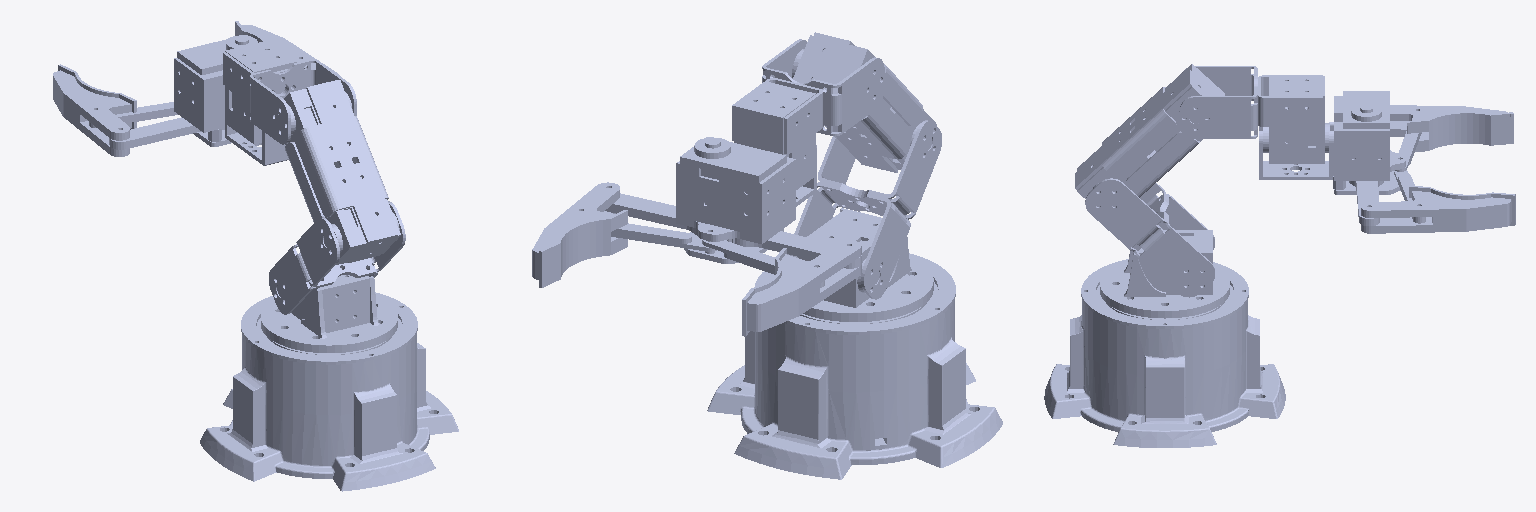
URDF robot description (endmeplz):
<?xml version="1.0" encoding="utf-8"?>
<!-- This URDF was automatically created by SolidWorks to URDF Exporter! Originally created by [author] ([email redacted]) 
     Commit Version: 1.6.0-1-g15f4949  Build Version: 1.6.7594.29634
     For more information, please see http://wiki.ros.org/sw_urdf_exporter -->
<robot
  name="endmeplz">
  <link
    name="base_link">
    <inertial>
      <origin
        xyz="0.000631713493736336 -3.02928458977558E-05 0.028430776065193"
        rpy="0 0 0" />
      <mass
        value="3.80330319179046" />
      <inertia
        ixx="0.00452100760029914"
        ixy="-3.16232627333116E-06"
        ixz="3.52203764610653E-06"
        iyy="0.0044975551721144"
        iyz="-1.73828961083293E-06"
        izz="0.00711790515099519" />
    </inertial>
    <visual>
      <origin
        xyz="0 0 0"
        rpy="0 0 0" />
      <geometry>
        <mesh
          filename="package://endmeplz/meshes/base_link.STL" />
      </geometry>
      <material
        name="">
        <color
          rgba="0.792156862745098 0.819607843137255 0.933333333333333 1" />
      </material>
    </visual>
    <collision>
      <origin
        xyz="0 0 0"
        rpy="0 0 0" />
      <geometry>
        <mesh
          filename="package://endmeplz/meshes/base_link.STL" />
      </geometry>
    </collision>
  </link>
  <link
    name="link_1">
    <inertial>
      <origin
        xyz="0.00015379 0.0029928 -0.021081"
        rpy="0 0 0" />
      <mass
        value="0.6359" />
      <inertia
        ixx="0.00018621"
        ixy="-1.0373E-06"
        ixz="1.2097E-08"
        iyy="0.00016446"
        iyz="1.9361E-07"
        izz="0.00029792" />
    </inertial>
    <visual>
      <origin
        xyz="0 0 0"
        rpy="0 0 0" />
      <geometry>
        <mesh
          filename="package://endmeplz/meshes/link_1.STL" />
      </geometry>
      <material
        name="">
        <color
          rgba="0.79216 0.81961 0.93333 1" />
      </material>
    </visual>
    <collision>
      <origin
        xyz="0 0 0"
        rpy="0 0 0" />
      <geometry>
        <mesh
          filename="package://endmeplz/meshes/link_1.STL" />
      </geometry>
    </collision>
  </link>
  <joint
    name="joint_1"
    type="revolute">
    <origin
      xyz="0 0 0.1049"
      rpy="0 0 0" />
    <parent
      link="base_link" />
    <child
      link="link_1" />
    <axis
      xyz="0 0 1" />
    <limit
      lower="-3.1"
      upper="3.1"
      effort="0"
      velocity="0" />
  </joint>
  <link
    name="link_2">
    <inertial>
      <origin
        xyz="1.0481E-07 -5.7272E-10 0.03803"
        rpy="0 0 0" />
      <mass
        value="0.10413" />
      <inertia
        ixx="2.9727E-05"
        ixy="-3.8595E-13"
        ixz="-6.8475E-12"
        iyy="6.3482E-05"
        iyz="6.1154E-12"
        izz="4.7388E-05" />
    </inertial>
    <visual>
      <origin
        xyz="0 0 0"
        rpy="0 0 0" />
      <geometry>
        <mesh
          filename="package://endmeplz/meshes/link_2.STL" />
      </geometry>
      <material
        name="">
        <color
          rgba="0.79216 0.81961 0.93333 1" />
      </material>
    </visual>
    <collision>
      <origin
        xyz="0 0 0"
        rpy="0 0 0" />
      <geometry>
        <mesh
          filename="package://endmeplz/meshes/link_2.STL" />
      </geometry>
    </collision>
  </link>
  <joint
    name="joint_2"
    type="revolute">
    <origin
      xyz="0 0.017906 -0.01425"
      rpy="0.78645 0 0" />
    <parent
      link="link_1" />
    <child
      link="link_2" />
    <axis
      xyz="1 0 0" />
    <limit
      lower="-2.3"
      upper="0"
      effort="0"
      velocity="0" />
  </joint>
  <link
    name="link_3">
    <inertial>
      <origin
        xyz="0.00026088 -4.1471E-11 0.03875"
        rpy="0 0 0" />
      <mass
        value="0.86322" />
      <inertia
        ixx="0.00025078"
        ixy="8.0452E-14"
        ixz="-1.1558E-11"
        iyy="0.00030268"
        iyz="-1.2921E-10"
        izz="0.00015129" />
    </inertial>
    <visual>
      <origin
        xyz="0 0 0"
        rpy="0 0 0" />
      <geometry>
        <mesh
          filename="package://endmeplz/meshes/link_3.STL" />
      </geometry>
      <material
        name="">
        <color
          rgba="0.79216 0.81961 0.93333 1" />
      </material>
    </visual>
    <collision>
      <origin
        xyz="0 0 0"
        rpy="0 0 0" />
      <geometry>
        <mesh
          filename="package://endmeplz/meshes/link_3.STL" />
      </geometry>
    </collision>
  </link>
  <joint
    name="joint_3"
    type="revolute">
    <origin
      xyz="0 0 0.07606"
      rpy="-1.5708 0 0" />
    <parent
      link="link_2" />
    <child
      link="link_3" />
    <axis
      xyz="-1 0 0" />
    <limit
      lower="-2.35"
      upper="0.7"
      effort="0"
      velocity="0" />
  </joint>
  <link
    name="link_4">
    <inertial>
      <origin
        xyz="0.00060001 0.056626 -0.010172"
        rpy="0 0 0" />
      <mass
        value="0.4503" />
      <inertia
        ixx="0.00012715"
        ixy="-6.9826E-11"
        ixz="-8.6987E-12"
        iyy="0.00012052"
        iyz="-3.7464E-07"
        izz="0.00010698" />
    </inertial>
    <visual>
      <origin
        xyz="0 0 0"
        rpy="0 0 0" />
      <geometry>
        <mesh
          filename="package://endmeplz/meshes/link_4.STL" />
      </geometry>
      <material
        name="">
        <color
          rgba="0.79216 0.81961 0.93333 1" />
      </material>
    </visual>
    <collision>
      <origin
        xyz="0 0 0"
        rpy="0 0 0" />
      <geometry>
        <mesh
          filename="package://endmeplz/meshes/link_4.STL" />
      </geometry>
    </collision>
  </link>
  <joint
    name="joint_4"
    type="revolute">
    <origin
      xyz="0 0 0.0775"
      rpy="0.78435 0 0" />
    <parent
      link="link_3" />
    <child
      link="link_4" />
    <axis
      xyz="1 0 0" />
    <limit
      lower="-0.5"
      upper="2.5"
      effort="0"
      velocity="0" />
  </joint>
  <link
    name="link_5">
    <inertial>
      <origin
        xyz="-0.00034131 0.078598 -0.009587"
        rpy="0 0 0" />
      <mass
        value="1.0138" />
      <inertia
        ixx="0.00028883"
        ixy="4.4009E-07"
        ixz="-6.3691E-07"
        iyy="0.00024565"
        iyz="5.5079E-06"
        izz="0.00040237" />
    </inertial>
    <visual>
      <origin
        xyz="0 0 0"
        rpy="0 0 0" />
      <geometry>
        <mesh
          filename="package://endmeplz/meshes/link_5.STL" />
      </geometry>
      <material
        name="">
        <color
          rgba="0.79216 0.81961 0.93333 1" />
      </material>
    </visual>
    <collision>
      <origin
        xyz="0 0 0"
        rpy="0 0 0" />
      <geometry>
        <mesh
          filename="package://endmeplz/meshes/link_5.STL" />
      </geometry>
    </collision>
  </link>
  <joint
    name="joint_5"
    type="revolute">
    <origin
      xyz="0.0016851 0.038575 -0.024092"
      rpy="0 0 0" />
    <parent
      link="link_4" />
    <child
      link="link_5" />
    <axis
      xyz="0 -1 0" />
    <limit
      lower="-1.4"
      upper="1.4"
      effort="0"
      velocity="0" />
  </joint>
</robot>

--- What the picture shows (computed from the rendered views, not written in the file) ---
3 views of the same robot in one strip: view 1: azimuth 30°, elevation 25°; view 2: azimuth 150°, elevation 25°; view 3: azimuth 270°, elevation 25° (orthographic).
Model endmeplz with 6 links and 5 joints (5 revolute), rooted at base_link, posed all joints at 0.
Visible links, largest first — view 1: base_link, link_5, link_3, link_1, link_4, link_2; view 2: base_link, link_5, link_4, link_2, link_3, link_1; view 3: base_link, link_5, link_4, link_3, link_2, link_1.
Link boxes in pixels (x1,y1,x2,y2): base_link: (200, 292, 458, 491); link_5: (53, 21, 339, 165); link_3: (276, 80, 400, 264); link_1: (261, 268, 397, 352); link_4: (223, 40, 356, 144); link_2: (269, 201, 405, 314); base_link: (707, 253, 1002, 479); link_5: (532, 137, 861, 336); link_4: (732, 39, 884, 189); link_2: (787, 120, 941, 299); link_3: (792, 32, 936, 172); link_1: (794, 208, 933, 321); base_link: (1044, 259, 1285, 447); link_5: (1259, 91, 1515, 233); link_4: (1179, 66, 1329, 163); link_3: (1075, 64, 1224, 206); link_2: (1085, 178, 1214, 297); link_1: (1100, 230, 1229, 318).
Size in the robot's own frame: 0.1542 by 0.2889 by 0.2193 metres.
Meshes: 6 distinct files referenced, 6 mesh visuals loaded (6 binary STL).